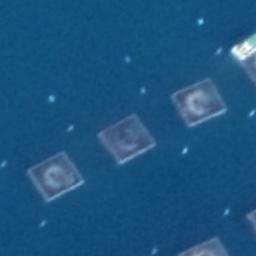square_cover: (93, 111, 161, 169), (24, 148, 90, 206), (165, 75, 232, 131), (173, 230, 237, 256), (237, 45, 256, 87)
